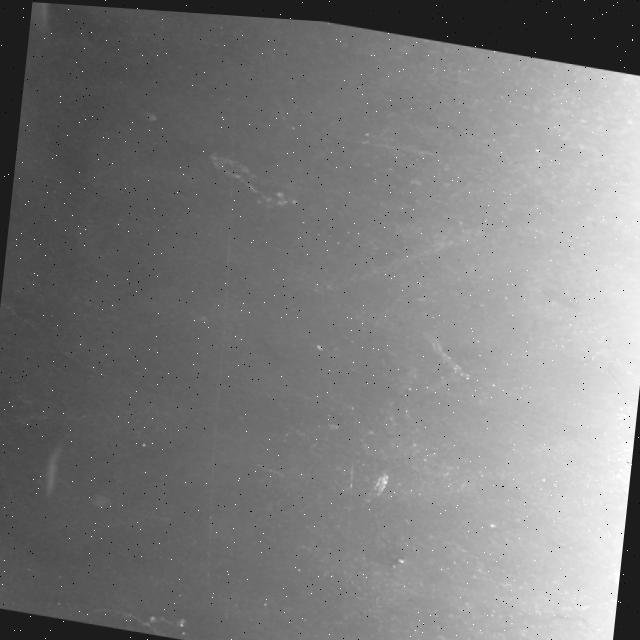beta: (351, 168, 640, 256), (308, 191, 487, 316), (0, 298, 113, 375), (198, 145, 305, 210), (508, 569, 618, 625), (0, 391, 113, 439), (78, 599, 170, 634), (251, 457, 288, 472)
